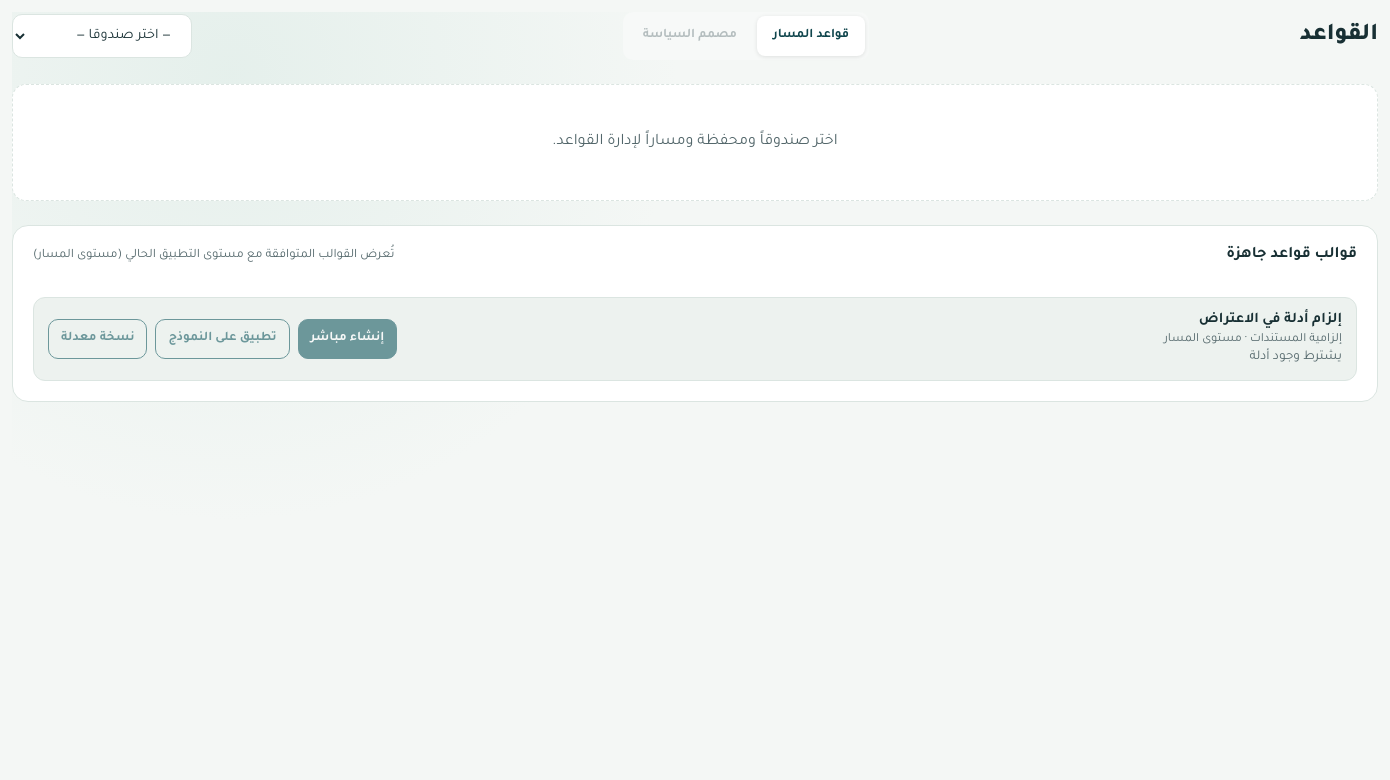
Test case: Rules page template flows › allows delegated advanced settings managers without an admin role
Select "الصندوق 1" in the dropdown: [102, 36] box [12, 14, 192, 58]
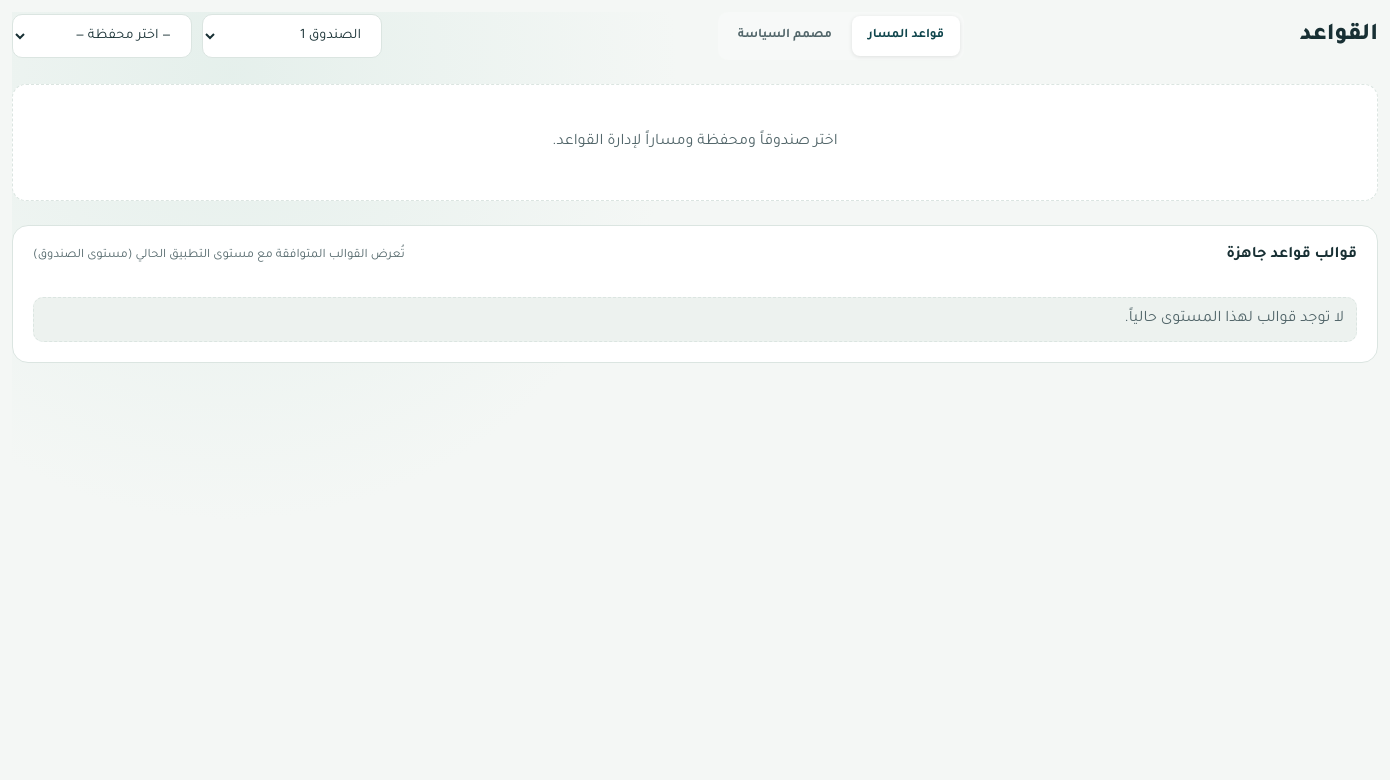
Select "المحفظة 1" in the dropdown named "rules.walletSelectTitle": [102, 36] box [12, 14, 192, 58]
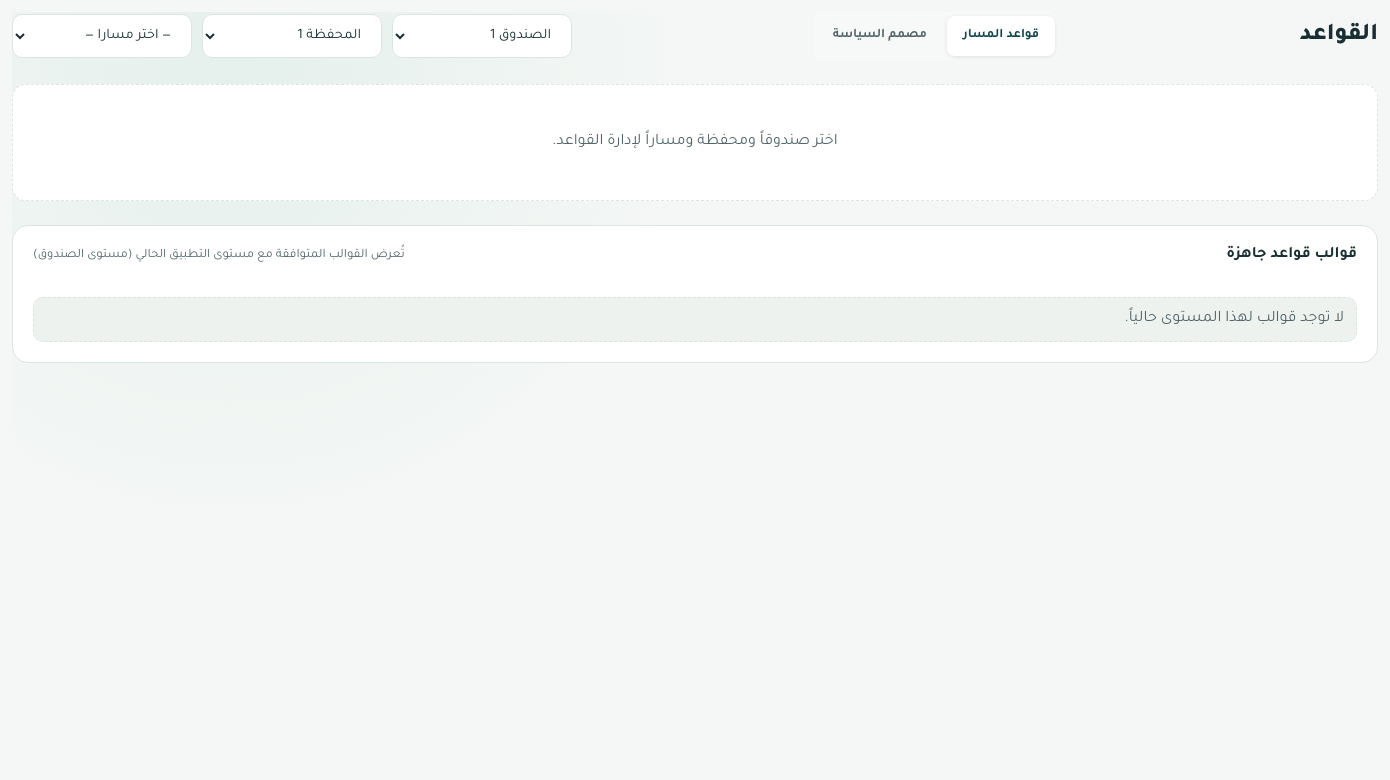
Select "المسار 1" in the dropdown named "rules.pathSelectTitle": [102, 36] box [12, 14, 192, 58]
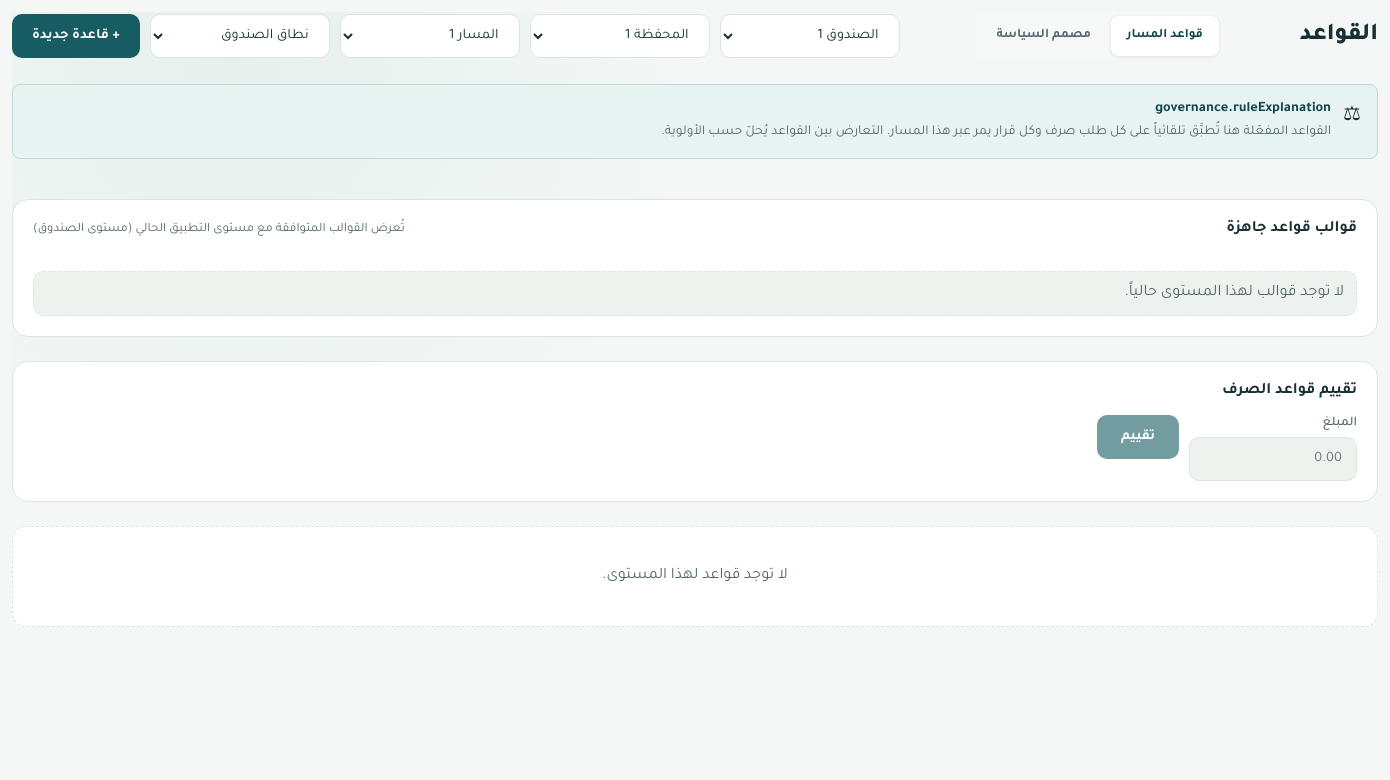
Select "نطاق المسار" in the dropdown named "rules.scopeSelectTitle": [240, 36] box [150, 14, 330, 58]
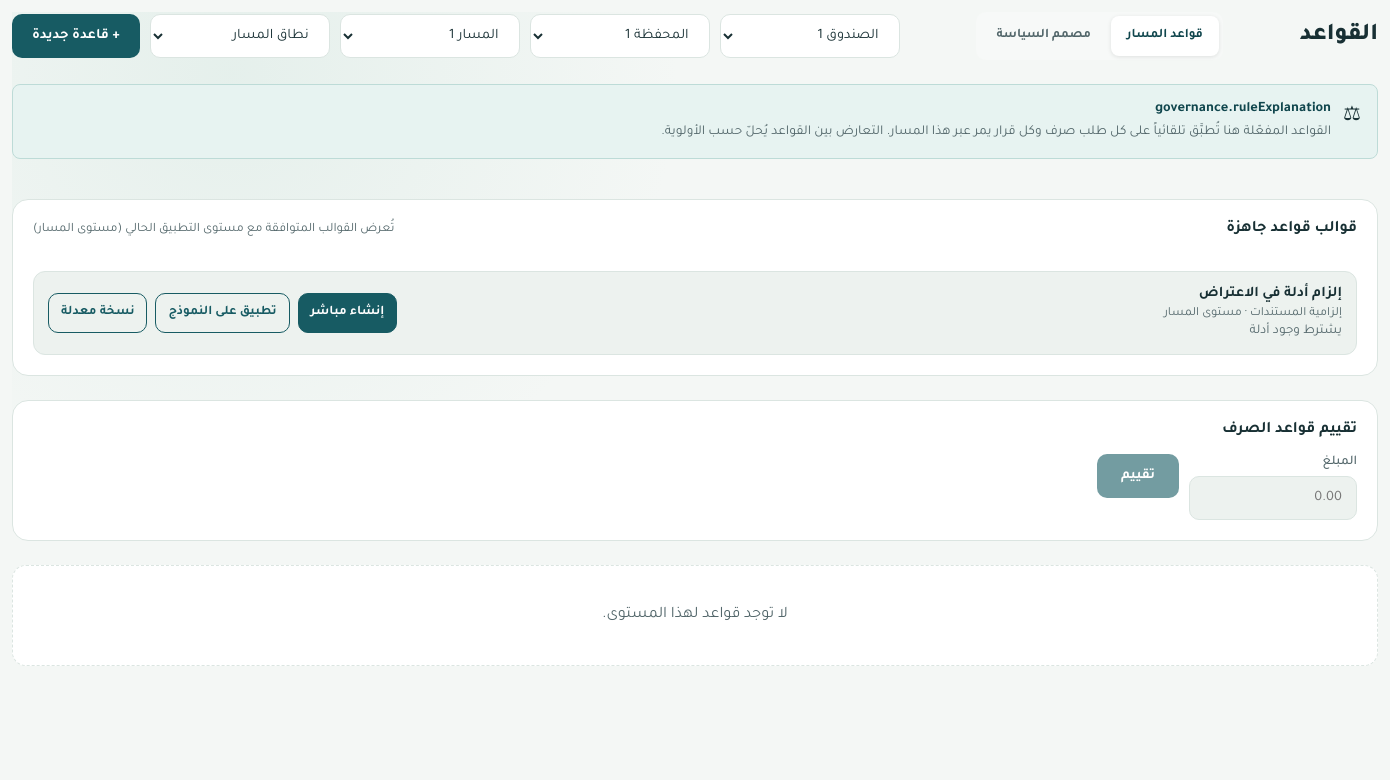
Expected: the button "قواعد المسار" is shown, [1111, 16, 1219, 56]
Expected: the button "إنشاء مباشر" is shown, [298, 293, 397, 333]
